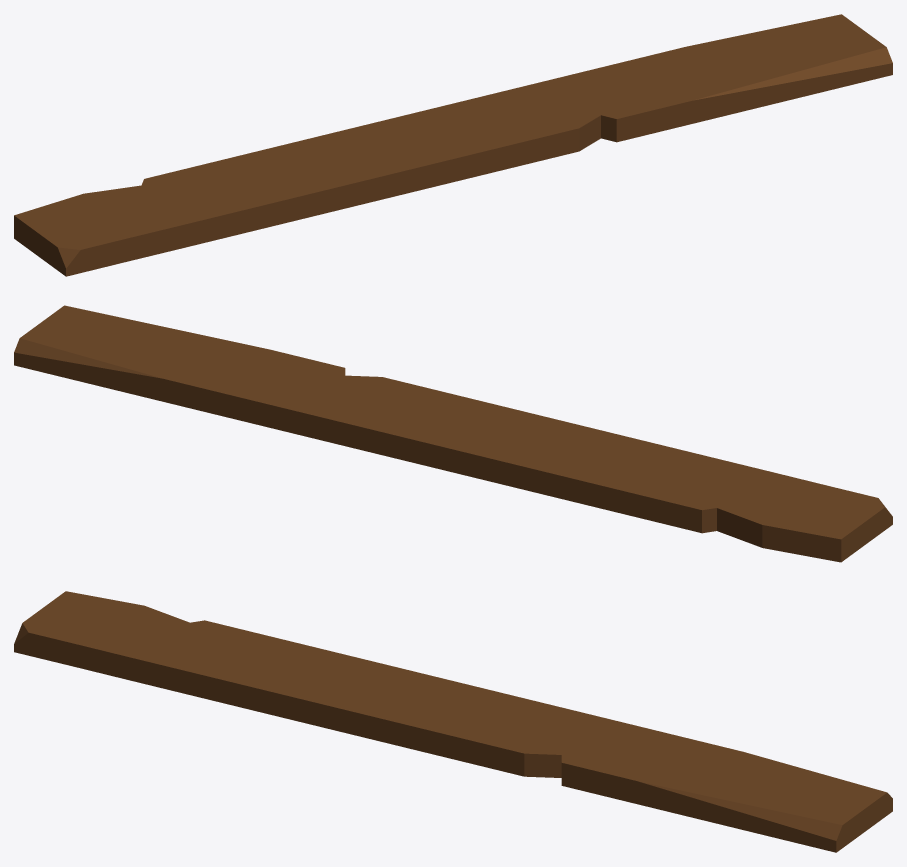
File: WoodenPlank_05.fbx
3 views of the same model, one above another, from view 1: azimuth 30°, elevation 25°; view 2: azimuth 150°, elevation 25°; view 3: azimuth 330°, elevation 25° (orthographic).
Visible parts, largest first — view 1: WoodenPlank_05; view 2: WoodenPlank_05; view 3: WoodenPlank_05.
Part boxes in pixels (x1,y1,x2,y2): WoodenPlank_05: (14, 14, 892, 276); WoodenPlank_05: (14, 305, 892, 562); WoodenPlank_05: (14, 591, 892, 852).
Bounding box in the file's own units: 188 × 5.03 × 22.37.
